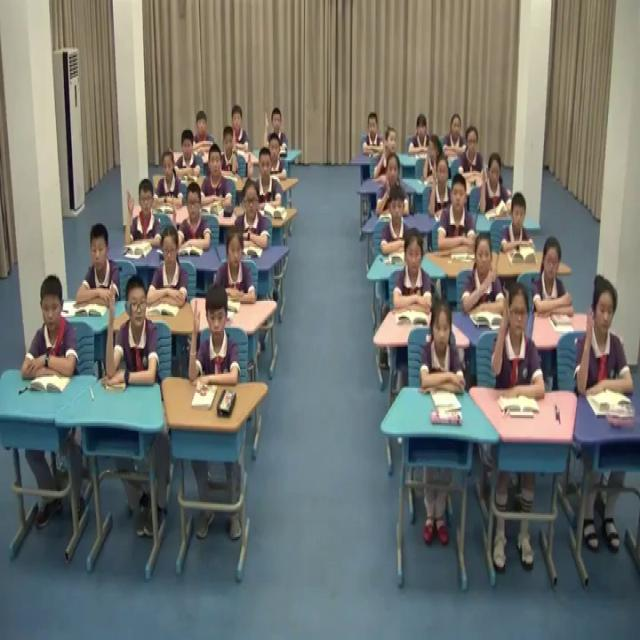distracted: (372, 123, 400, 179), (421, 132, 444, 180)
focused: (22, 274, 80, 384), (422, 302, 467, 398), (147, 226, 191, 316), (76, 222, 121, 308), (460, 231, 503, 318), (393, 228, 437, 312), (438, 172, 482, 255), (213, 226, 256, 302), (531, 241, 572, 316), (498, 189, 540, 261), (377, 184, 413, 256), (235, 183, 272, 250), (374, 154, 412, 217), (456, 126, 492, 187), (201, 146, 232, 210), (157, 151, 187, 204), (173, 128, 202, 178), (360, 112, 385, 159), (265, 132, 288, 183), (408, 110, 433, 155), (439, 114, 465, 154), (230, 106, 251, 148), (192, 112, 214, 152)
raising_hand: (576, 270, 635, 402), (102, 275, 162, 391), (492, 285, 547, 404), (187, 288, 242, 390), (170, 182, 210, 257), (124, 178, 167, 246), (477, 149, 513, 221), (247, 148, 285, 214), (425, 155, 457, 216), (264, 108, 290, 157), (218, 124, 240, 176)
